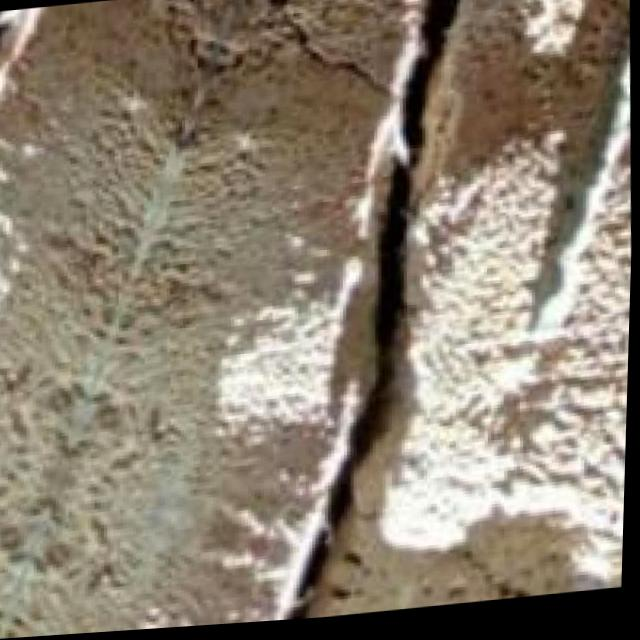Crack: (256, 0, 521, 626)
